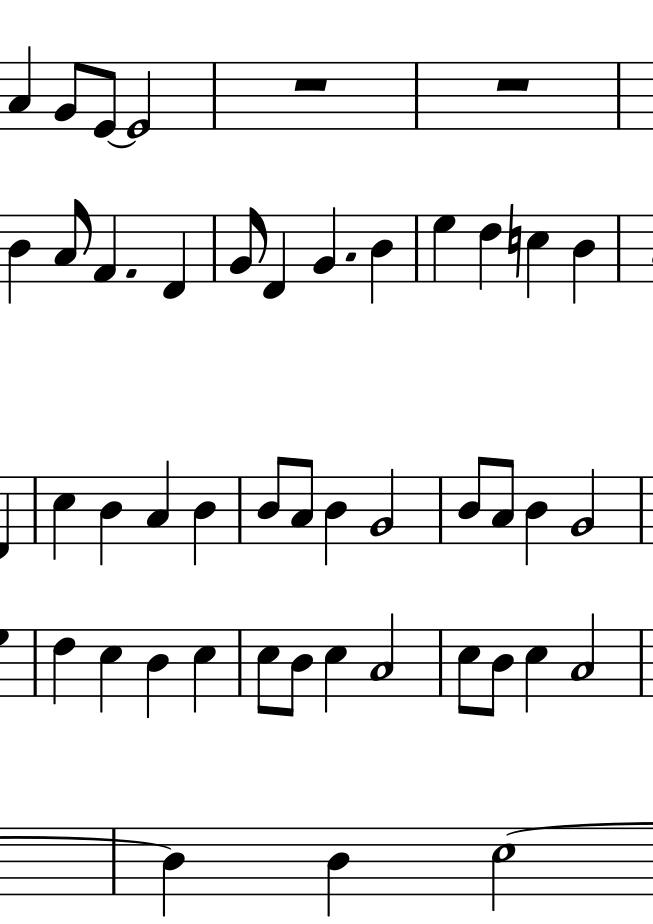2_0: (125, 60, 152, 140)
2_2: (570, 468, 596, 546), (369, 467, 395, 544)
2_3: (368, 611, 395, 700), (570, 611, 596, 699)
2_5: (491, 826, 517, 911)
4_-1: (262, 214, 287, 301), (163, 213, 187, 302)
4_1: (94, 213, 118, 284)
4_2: (311, 204, 337, 283)
4_3: (6, 44, 32, 132), (145, 460, 170, 545)
4_4: (524, 476, 551, 566), (323, 476, 349, 567), (369, 213, 394, 307), (7, 213, 32, 306), (191, 476, 216, 569), (161, 827, 186, 918), (571, 213, 595, 307), (99, 474, 123, 568), (326, 826, 350, 917), (146, 629, 169, 719)
4_5: (51, 476, 77, 563), (524, 628, 550, 715), (99, 628, 124, 715), (526, 213, 550, 298), (324, 628, 348, 713), (193, 628, 216, 715)
4_6: (477, 214, 502, 293), (52, 628, 75, 707)
4_7: (432, 214, 457, 283)
8_0: (92, 60, 118, 138)
8_2: (230, 207, 269, 283), (54, 60, 85, 129)
8_3: (54, 199, 94, 282), (492, 458, 515, 546), (291, 458, 314, 545)
8_4: (456, 456, 489, 545), (282, 628, 314, 718), (256, 456, 288, 544), (485, 629, 515, 717)
8_5: (456, 627, 481, 718), (256, 628, 280, 715)
Natural: (507, 205, 522, 280)
Rests1: (286, 73, 334, 94), (492, 75, 531, 93)
Single_barline: (24, 475, 44, 542), (26, 630, 45, 696), (408, 216, 427, 280), (431, 631, 449, 697), (232, 630, 249, 695), (232, 477, 249, 542), (633, 630, 650, 695), (206, 215, 222, 281), (432, 477, 448, 543), (611, 215, 627, 281), (633, 477, 649, 542), (408, 64, 424, 128), (106, 828, 121, 895), (611, 63, 626, 128), (207, 62, 221, 127)
dot: (122, 266, 139, 280), (343, 248, 357, 264)
